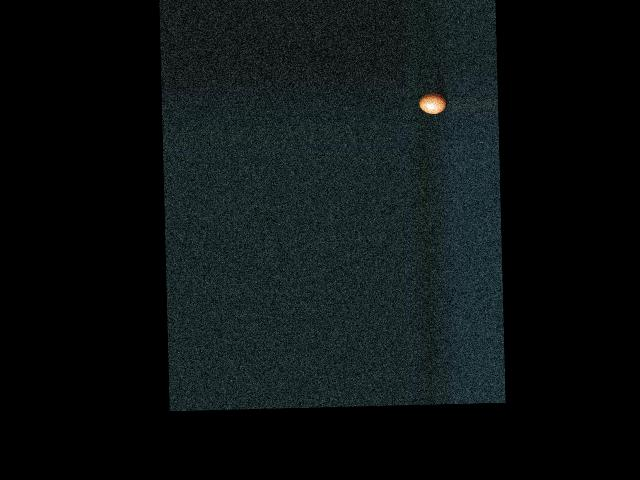egg: (419, 92, 447, 113)
